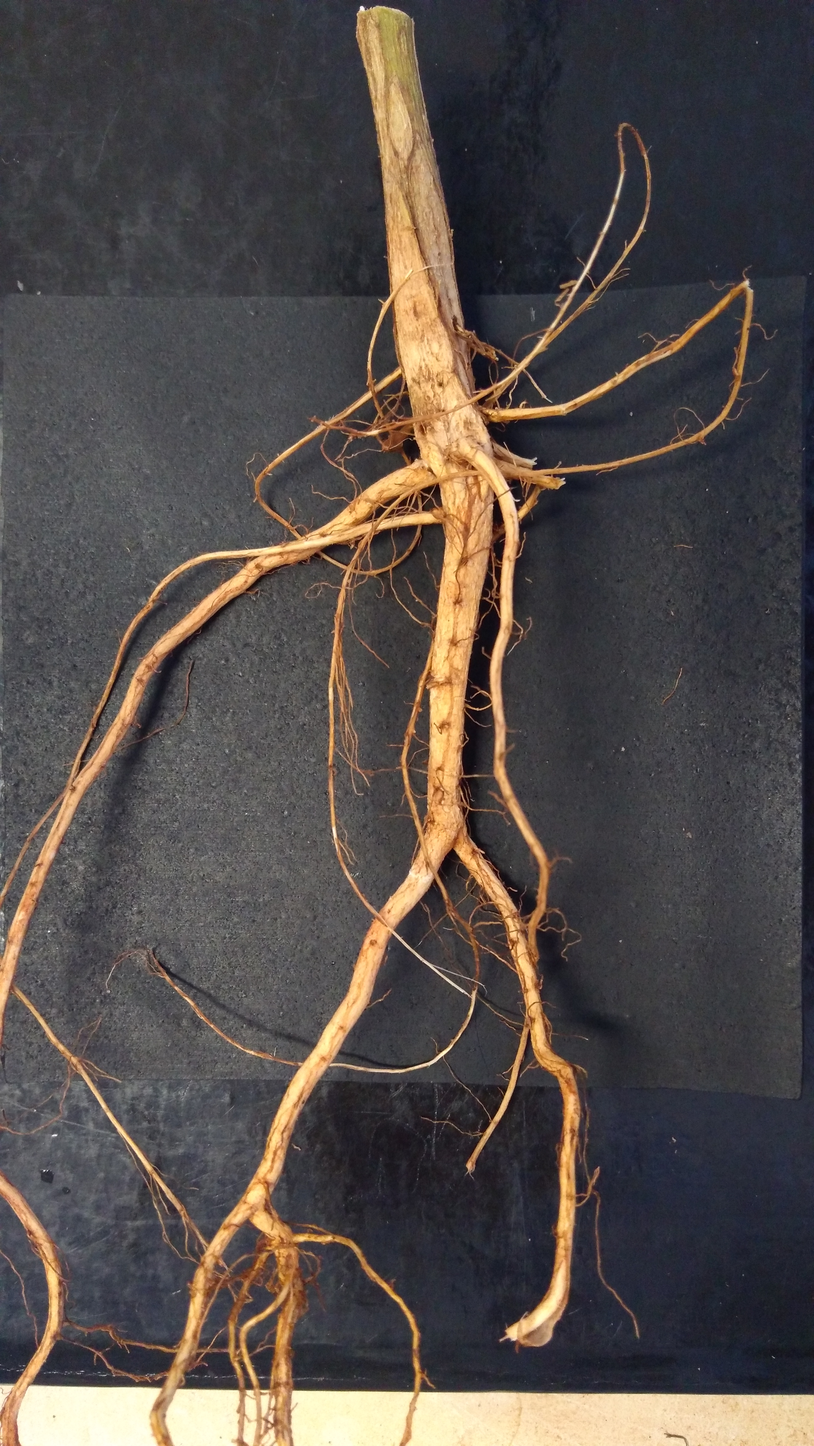nodule: (381, 433, 403, 452), (254, 1237, 274, 1257), (205, 1275, 228, 1292), (240, 1267, 261, 1283), (430, 507, 445, 519), (264, 1281, 276, 1294), (275, 1281, 284, 1294), (418, 708, 423, 712), (412, 729, 416, 733), (415, 599, 418, 602)
